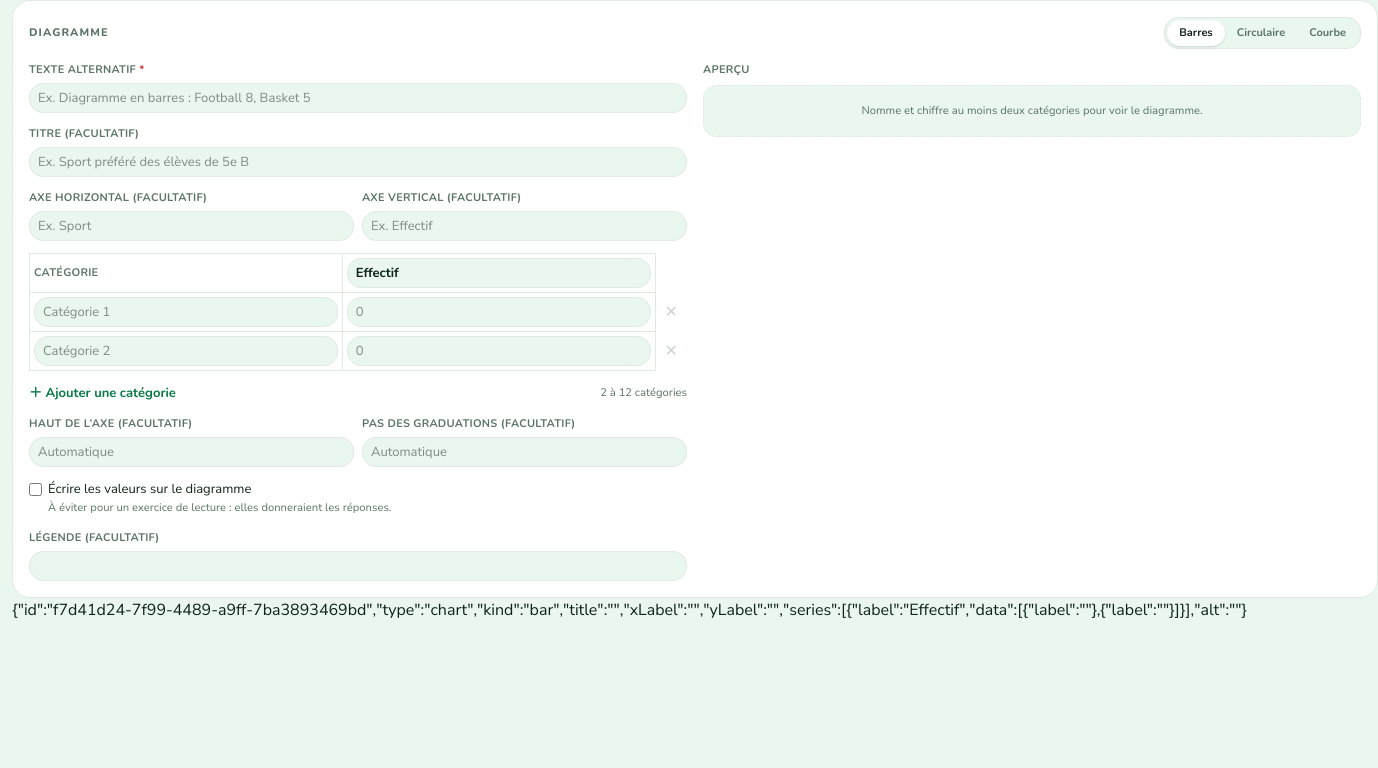
Test: GraphiqueEditeur — saisie › should switch kind, hiding the axis fields of a pie
What coordinates should you click on to do the following:
click the button "Circulaire"
I would click on:
 (1261, 33)
Its box is x1=1225 y1=20 x2=1297 y2=46.
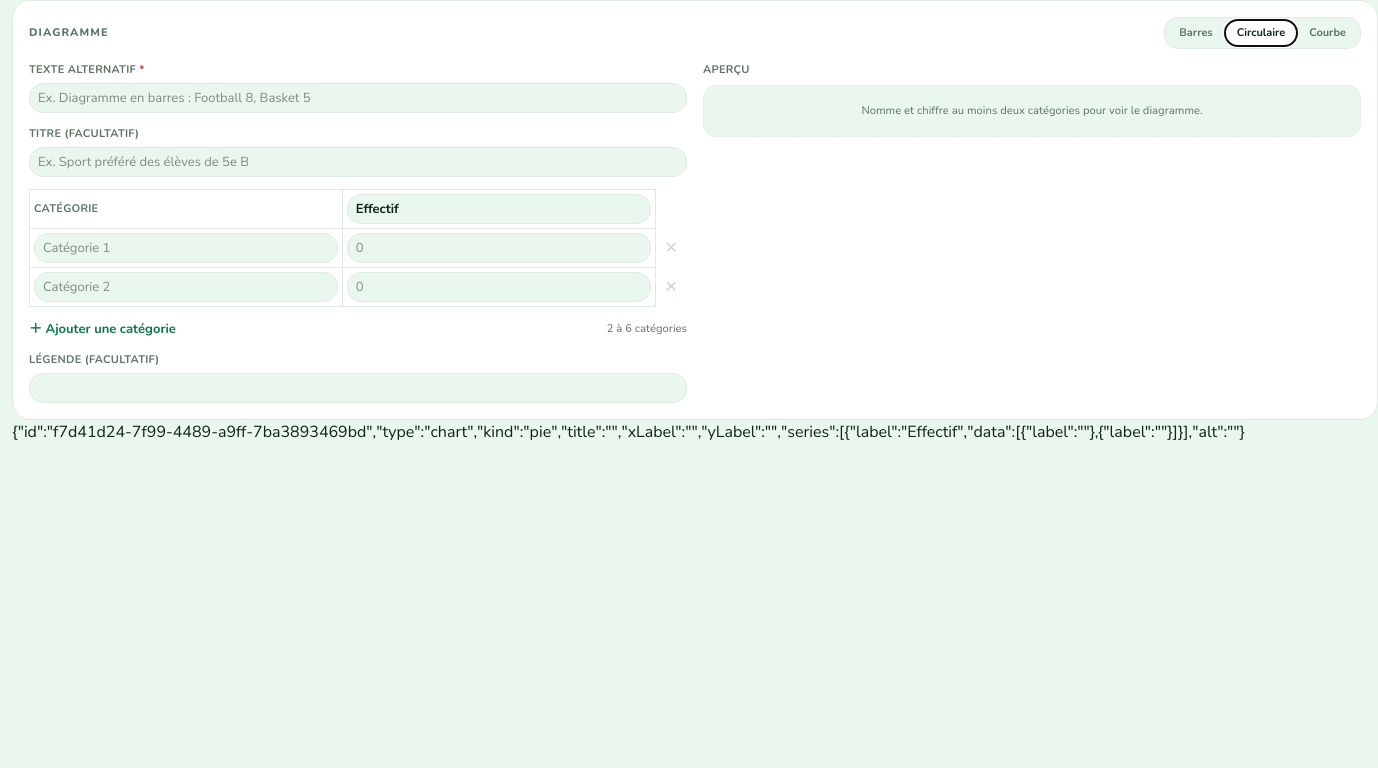
Now the text labelled "Axe horizontal (facultatif)" is gone
Now the field labelled "Écrire les valeurs" is gone
Now the text "2 à 6 catégories" is shown, box x1=607 y1=320 x2=687 y2=338
What coordinates should you click on to do the following:
click the button "Courbe"
I would click on:
 (1328, 33)
Its box is x1=1297 y1=20 x2=1358 y2=46.
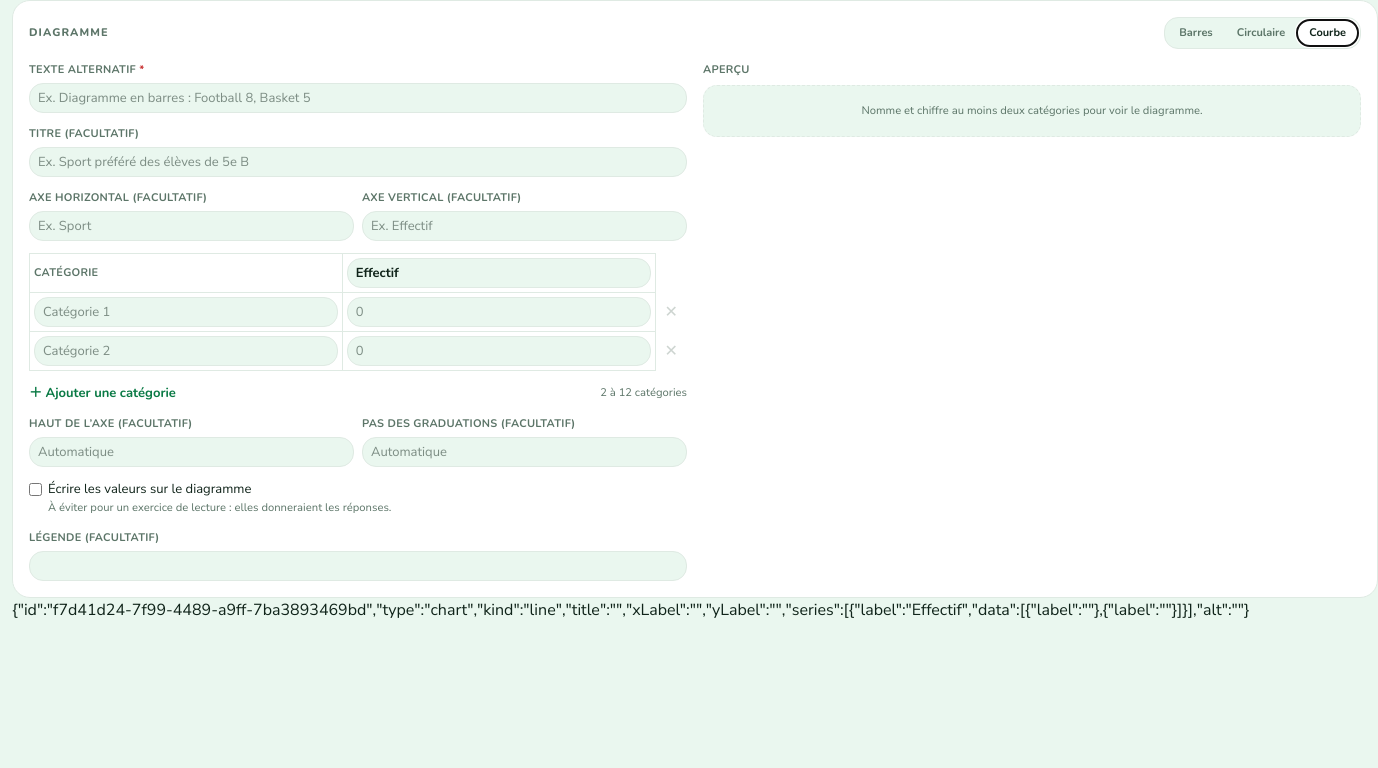
Now the field labelled "Axe horizontal (facultatif)" is shown, box x1=29 y1=211 x2=354 y2=241
